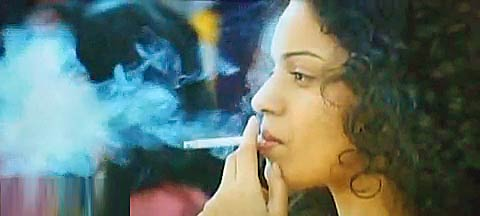cigarette: (155, 135, 272, 147)
